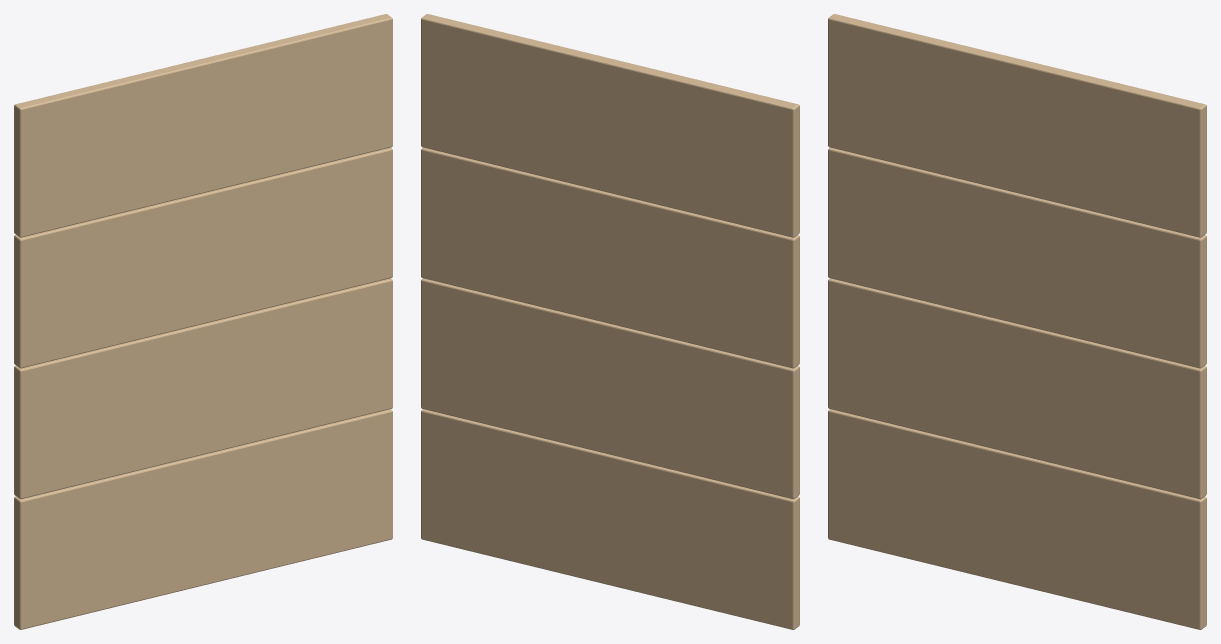
Rendered from DRAWERS_4_600x800.glb.
3 renders of one model, left to right at view 1: azimuth 30°, elevation 25°; view 2: azimuth 150°, elevation 25°; view 3: azimuth 330°, elevation 25°, orthographic.
Visible parts, largest first — view 1: front_panel_01, front_panel_04, front_panel_03, front_panel_02; view 2: front_panel_01, front_panel_04, front_panel_03, front_panel_02; view 3: front_panel_01, front_panel_04, front_panel_03, front_panel_02.
Boxes of the visible parts, x1,y1,x2,y2 form: front_panel_01: (14,14,392,237); front_panel_04: (14,409,392,629); front_panel_03: (14,278,392,499); front_panel_02: (14,147,392,368); front_panel_01: (421,14,799,237); front_panel_04: (421,409,799,629); front_panel_03: (421,278,799,499); front_panel_02: (421,147,799,368); front_panel_01: (828,14,1206,237); front_panel_04: (828,409,1206,629); front_panel_03: (828,278,1206,499); front_panel_02: (828,147,1206,368).
Size of the model in its own units: 0.596 by 0.796 by 0.018.
